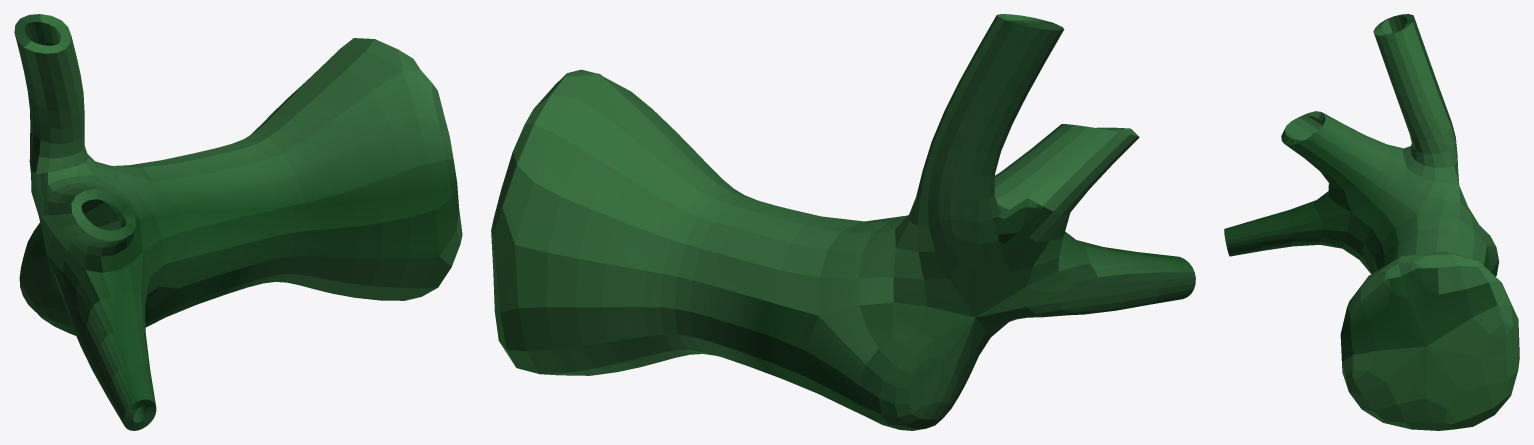
The model's file is tronco caido1.fbx.
3 renders of one model, left to right at view 1: azimuth 30°, elevation 25°; view 2: azimuth 150°, elevation 25°; view 3: azimuth 270°, elevation 25°, orthographic. The views are drawn at different scales.
Parts seen in each view (by area): view 1: Cube.001; view 2: Cube.001; view 3: Cube.001.
Boxes of the visible parts, bbox=[...] form: Cube.001: bbox=[14, 14, 462, 430]; Cube.001: bbox=[491, 14, 1195, 430]; Cube.001: bbox=[1224, 14, 1519, 430].
Size of the model in its own units: 180 by 149 by 143.
